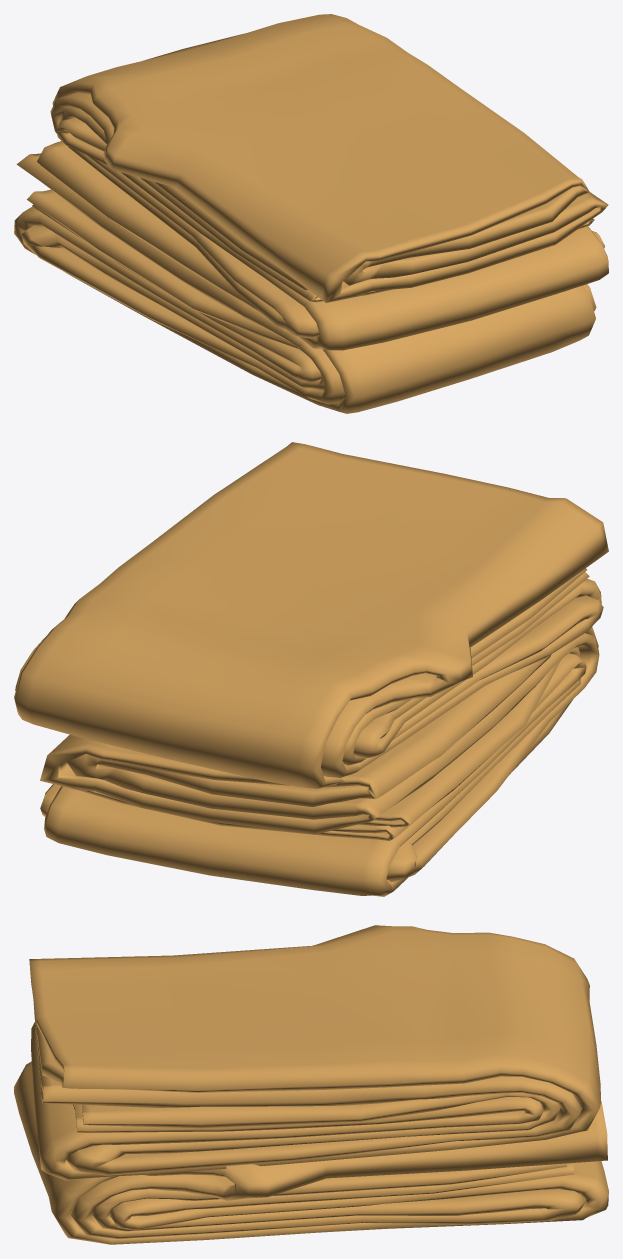
The model's file is Folded_Pant11.fbx.
The picture shows the model from 3 angles, top to bottom: view 1: azimuth 30°, elevation 25°; view 2: azimuth 150°, elevation 25°; view 3: azimuth 270°, elevation 25°; orthographic projection. The views are drawn at different scales.
Parts seen in each view (by area): view 1: Folded_Pant11; view 2: Folded_Pant11; view 3: Folded_Pant11.
Part boxes in pixels (left/top/right/bottom): Folded_Pant11: left=14, top=14, right=608, bottom=413; Folded_Pant11: left=14, top=442, right=608, bottom=896; Folded_Pant11: left=14, top=925, right=608, bottom=1244.
Size of the model in its own units: 25.78 by 11.41 by 35.19.
